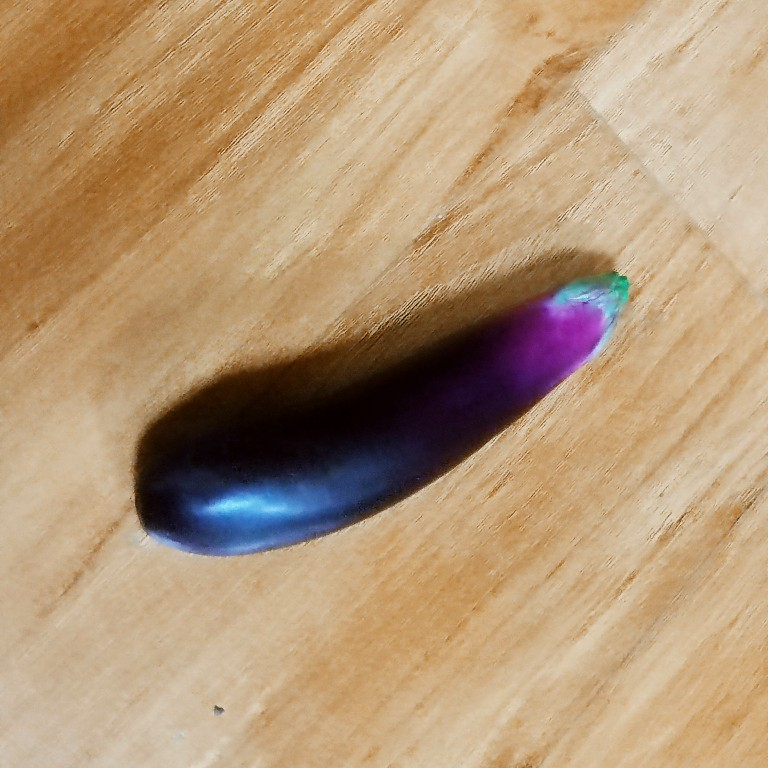fruit_eggplant: (133, 265, 633, 570)
